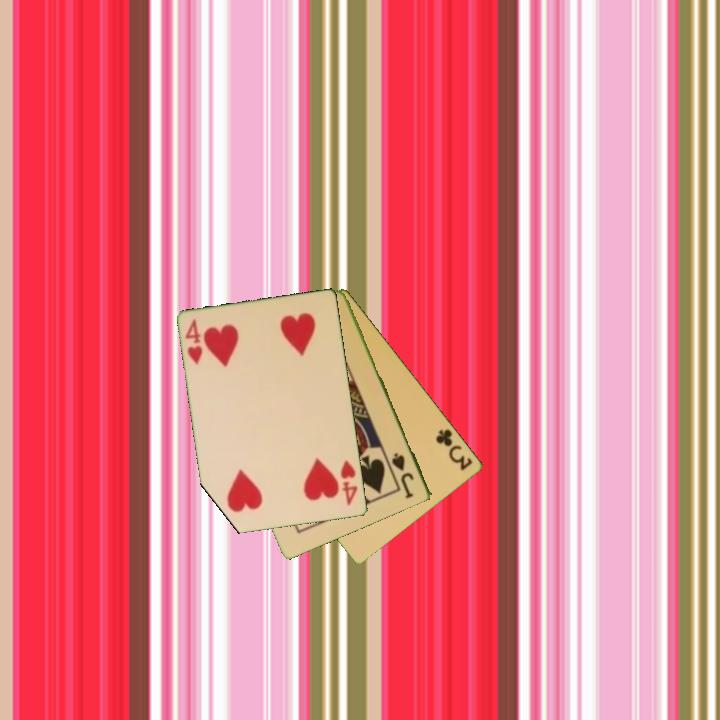3c: (432, 425, 476, 474)
4h: (182, 316, 206, 368), (337, 457, 361, 508)
Js: (389, 449, 417, 501)
